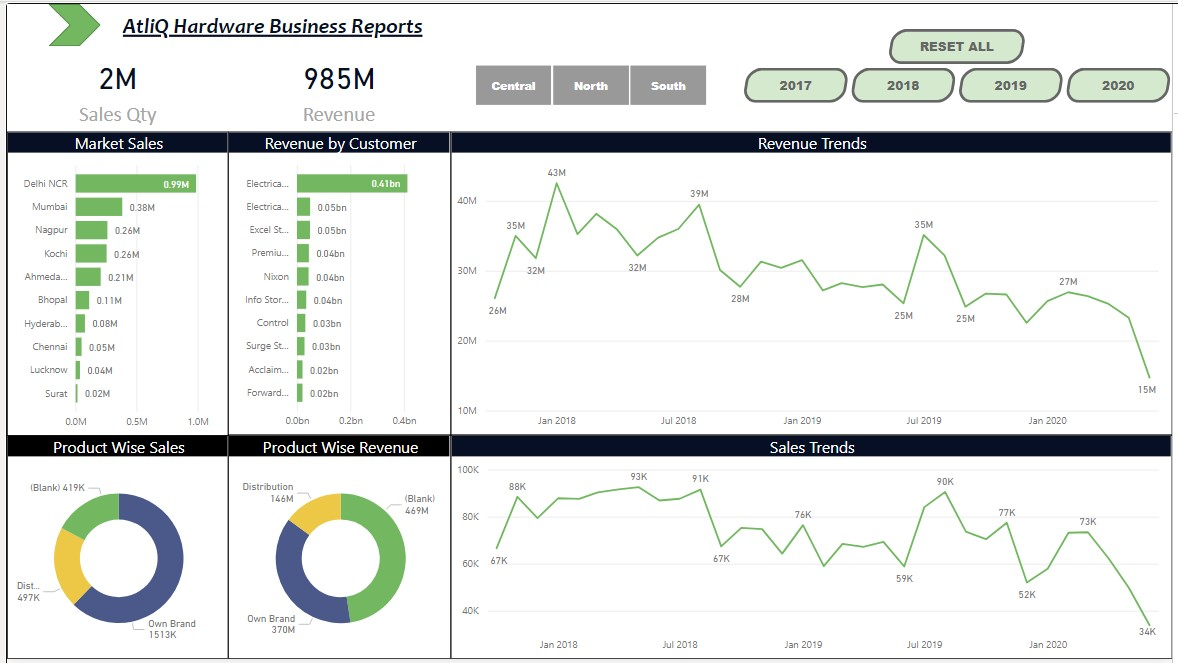

Layout of this report page (visuals, bound fields, positions):
{"tool":"powerbi","page":{"name":"Dashboard","canvas":[1280,720],"ordinal":0},"visuals":[{"type":"card","fields":{"Values":["base_measures.Sales Qty"]},"box":[0,46.7,243.1,93.4],"z":0},{"type":"card","fields":{"Values":["base_measures.Revenue"]},"box":[243.1,46.7,243.1,93.4],"z":1000},{"type":"actionButton","box":[807.6,70,118.1,38.5],"z":2000},{"type":"clusteredBarChart","title":"Market Sales","fields":{"Category":["sales_markets.markets_name"],"Y":["base_measures.Sales Qty"]},"box":[0,139.7,243.6,334.3],"z":3000},{"type":"clusteredBarChart","title":"Revenue by Customer","fields":{"Category":["sales_customers.custmer_name"],"Y":["base_measures.Revenue"]},"box":[243.1,140.1,244.5,333.7],"z":4000},{"type":"lineChart","title":"Revenue Trends","fields":{"Y":["base_measures.Revenue"],"Category":["sales_date.cy_date"]},"box":[487.6,140.1,792.4,333.7],"z":5000},{"type":"lineChart","title":"Sales Trends","fields":{"Category":["sales_date.cy_date"],"Y":["base_measures.Sales Qty"]},"box":[487.6,473.8,792.4,245.8],"z":6000},{"type":"actionButton","box":[1043.8,70,118.1,38.5],"z":7000},{"type":"actionButton","box":[925.7,70,118.1,38.5],"z":8000},{"type":"actionButton","box":[1161.9,70,118.1,38.5],"z":9000},{"type":"donutChart","title":"Product Wise Sales","fields":{"Category":["sales_products.product_type"],"Y":["base_measures.Sales Qty"]},"box":[0,474,243.6,246],"z":10000},{"type":"donutChart","title":"Product Wise Revenue","fields":{"Category":["sales_products.product_type"],"Y":["base_measures.Revenue"]},"box":[243.1,473.8,244.5,245.8],"z":11000},{"type":"slicer","title":"Zone Wise","fields":{"Values":["sales_markets.zone"]},"box":[488.4,60.9,303.3,57.3],"z":12000},{"type":"actionButton","box":[966.9,27.5,153.8,38.5],"z":13000},{"type":"shape","box":[45.3,0,57.7,46.7],"z":14000},{"type":"textbox","box":[122.2,4.1,366.7,39.8],"z":15000}]}

Visuals, with their boxes in screenshot pixels (x1, y1, x2, y2), scaled from the page's 1280x720 canvas onto the 1178x663 screenshot:
card - base_measures.Sales Qty: select_region(0, 43, 224, 129)
card - base_measures.Revenue: select_region(224, 43, 447, 129)
actionButton: select_region(743, 64, 852, 100)
"Market Sales" clusteredBarChart: select_region(0, 129, 224, 436)
"Revenue by Customer" clusteredBarChart: select_region(224, 129, 449, 436)
"Revenue Trends" lineChart: select_region(449, 129, 1177, 436)
"Sales Trends" lineChart: select_region(449, 436, 1177, 662)
actionButton: select_region(961, 64, 1069, 100)
actionButton: select_region(852, 64, 961, 100)
actionButton: select_region(1069, 64, 1177, 100)
"Product Wise Sales" donutChart: select_region(0, 436, 224, 662)
"Product Wise Revenue" donutChart: select_region(224, 436, 449, 662)
"Zone Wise" slicer: select_region(449, 56, 729, 109)
actionButton: select_region(890, 25, 1031, 61)
shape: select_region(42, 0, 95, 43)
textbox: select_region(112, 4, 450, 40)
